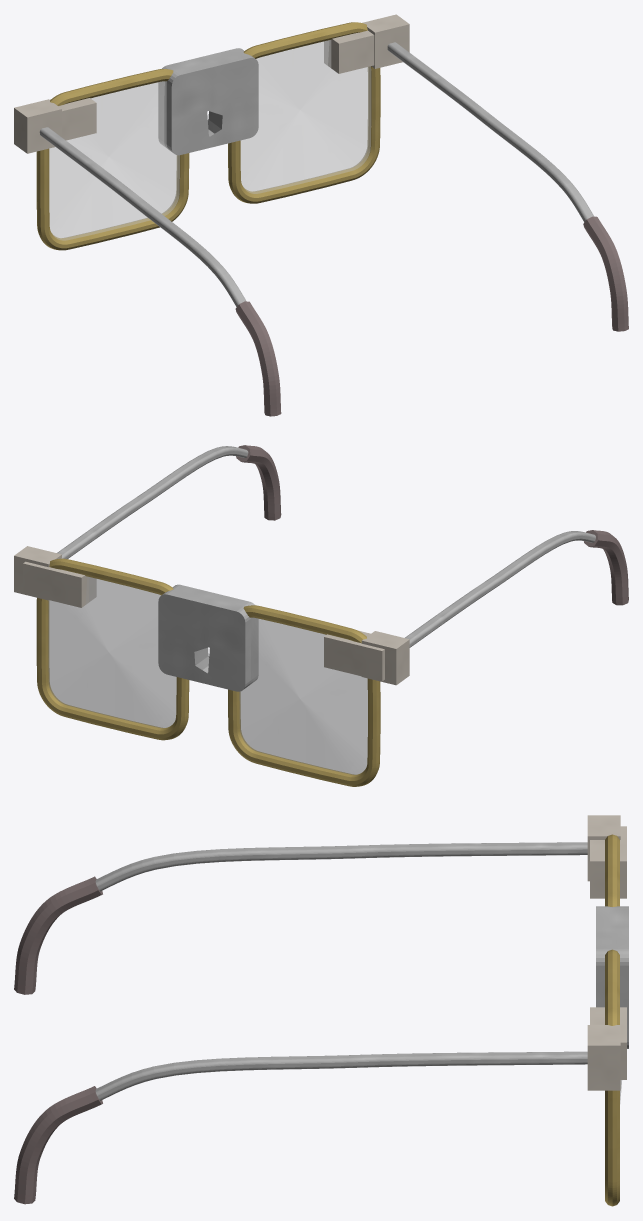
File: Accessories_glasses__0008.glb
The picture shows the model from 3 angles, top to bottom: view 1: azimuth 30°, elevation 25°; view 2: azimuth 150°, elevation 25°; view 3: azimuth 270°, elevation 25°; orthographic projection. The views are drawn at different scales.
Parts seen in each view (by area): view 1: front_frame::lens_right, front_frame::lens_left, front_frame::keyhole_bridge, front_frame::rim_right, front_frame::rim_left, temple_right::arm_right, temple_left::arm_left, temple_right::ear_tip_right, temple_left::ear_tip_left, temple_left::knuckle_left, front_frame::hinge_block_right, temple_right::knuckle_right (+1 smaller); view 2: front_frame::lens_left, front_frame::lens_right, front_frame::keyhole_bridge, front_frame::rim_right, front_frame::rim_left, temple_left::arm_left, temple_right::arm_right, front_frame::hinge_block_right, front_frame::hinge_block_left, temple_left::knuckle_left, temple_left::ear_tip_left, temple_right::ear_tip_right (+1 smaller); view 3: temple_left::arm_left, temple_right::arm_right, temple_right::ear_tip_right, temple_left::ear_tip_left, front_frame::rim_right, front_frame::keyhole_bridge, temple_right::knuckle_right, front_frame::hinge_block_left, front_frame::rim_left, temple_left::knuckle_left, front_frame::hinge_block_right.
Part boxes in pixels (x1,y1,x2,y2): front_frame::lens_right: [240, 40, 370, 193]; front_frame::lens_left: [49, 81, 179, 240]; front_frame::keyhole_bridge: [158, 48, 258, 155]; front_frame::rim_right: [228, 22, 380, 203]; front_frame::rim_left: [36, 69, 189, 250]; temple_right::arm_right: [387, 42, 594, 222]; temple_left::arm_left: [39, 127, 246, 306]; temple_right::ear_tip_right: [583, 216, 628, 331]; temple_left::ear_tip_left: [235, 301, 281, 416]; temple_left::knuckle_left: [14, 99, 61, 153]; front_frame::hinge_block_right: [324, 30, 374, 73]; temple_right::knuckle_right: [362, 14, 409, 68]; front_frame::lens_left: [239, 617, 367, 774]; front_frame::lens_right: [48, 577, 176, 727]; front_frame::keyhole_bridge: [158, 584, 258, 691]; front_frame::rim_right: [36, 558, 189, 740]; front_frame::rim_left: [228, 605, 380, 786]; temple_left::arm_left: [405, 531, 595, 647]; temple_right::arm_right: [57, 446, 248, 558]; front_frame::hinge_block_right: [23, 558, 96, 607]; front_frame::hinge_block_left: [324, 630, 384, 681]; temple_left::knuckle_left: [361, 631, 409, 685]; temple_left::ear_tip_left: [584, 530, 628, 605]; temple_right::ear_tip_right: [236, 445, 281, 520]; temple_left::arm_left: [95, 842, 587, 891]; temple_right::arm_right: [95, 1051, 587, 1100]; temple_right::ear_tip_right: [14, 1086, 102, 1204]; temple_left::ear_tip_left: [14, 876, 102, 994]; front_frame::rim_right: [605, 949, 619, 1206]; front_frame::keyhole_bridge: [596, 906, 628, 1048]; temple_right::knuckle_right: [587, 1025, 620, 1090]; front_frame::hinge_block_left: [590, 826, 626, 898]; front_frame::rim_left: [605, 834, 619, 906]; temple_left::knuckle_left: [587, 815, 620, 881]; front_frame::hinge_block_right: [590, 1007, 626, 1079].
Size of the model in its own units: 0.1322 by 0.0522 by 0.1492.
Materials: 5 (4 with a texture image).
